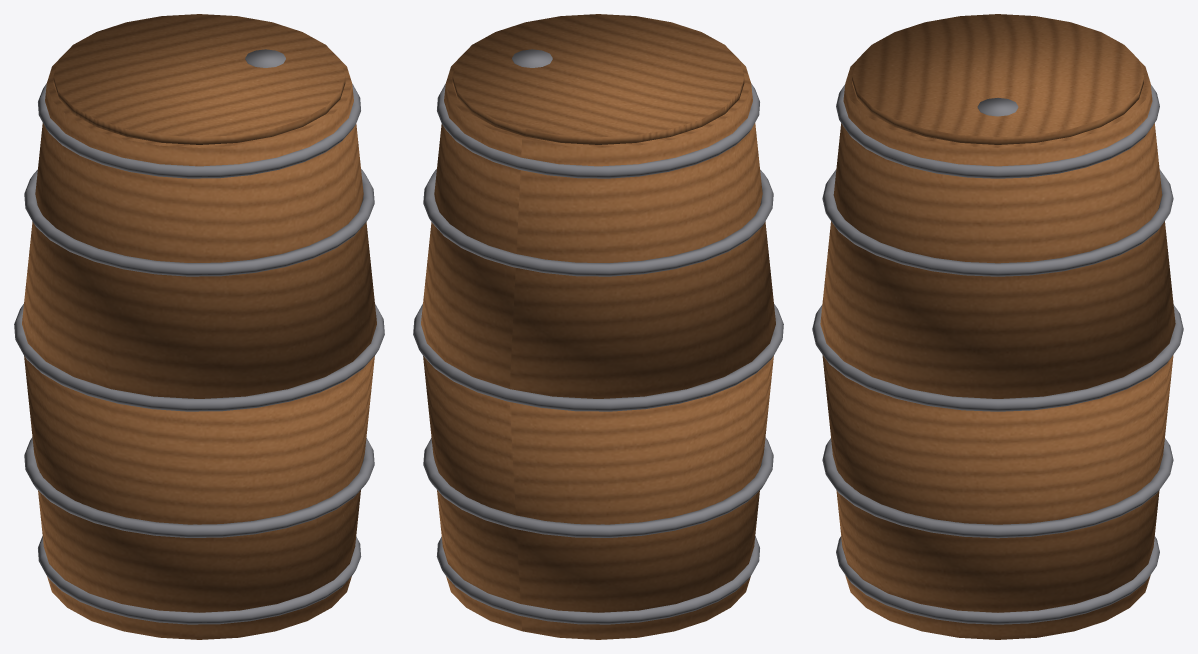
File: Barrel.glb
The picture shows the model from 3 angles, left to right: view 1: azimuth 30°, elevation 25°; view 2: azimuth 150°, elevation 25°; view 3: azimuth 270°, elevation 25°; orthographic projection.
Parts seen in each view (by area): view 1: Barrel; view 2: Barrel; view 3: Barrel.
Part boxes in pixels (x1,y1,x2,y2): Barrel: (14,14,384,639); Barrel: (413,14,783,639); Barrel: (812,14,1183,639).
Bounding box in the file's own units: 2.19 × 3.26 × 2.19.
1 material, 1 textured.
